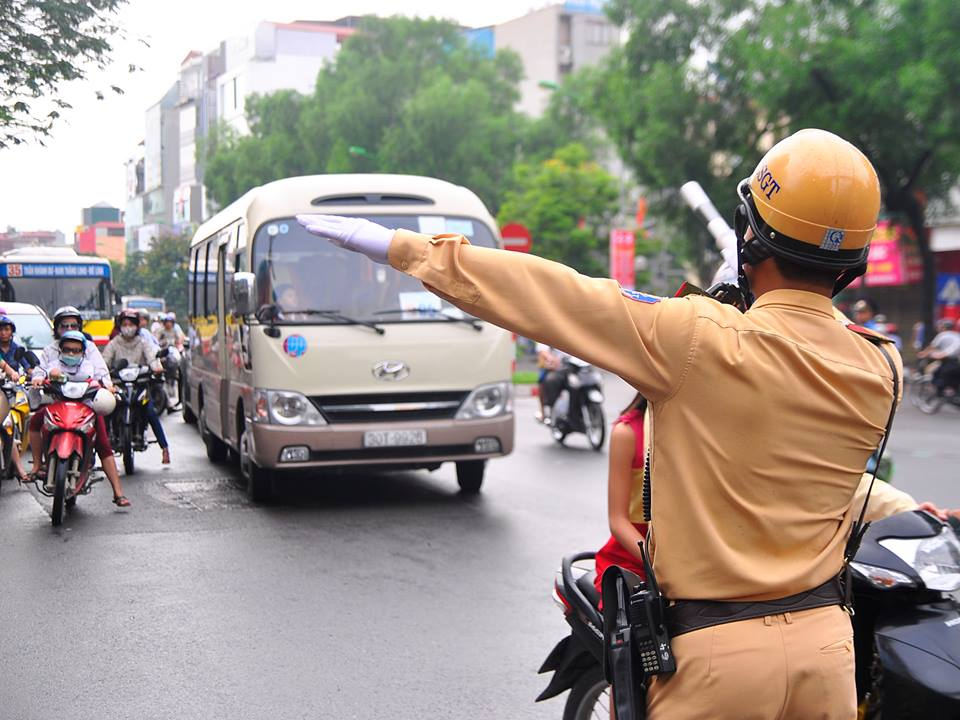police: (297, 117, 943, 718)
